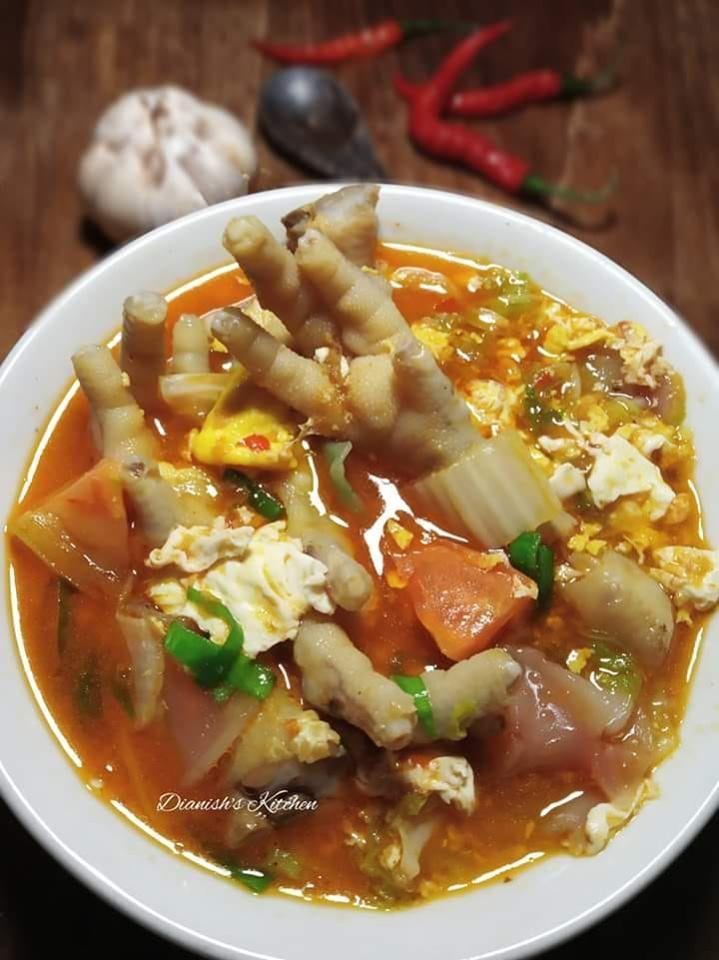seblak: (11, 220, 719, 913)
